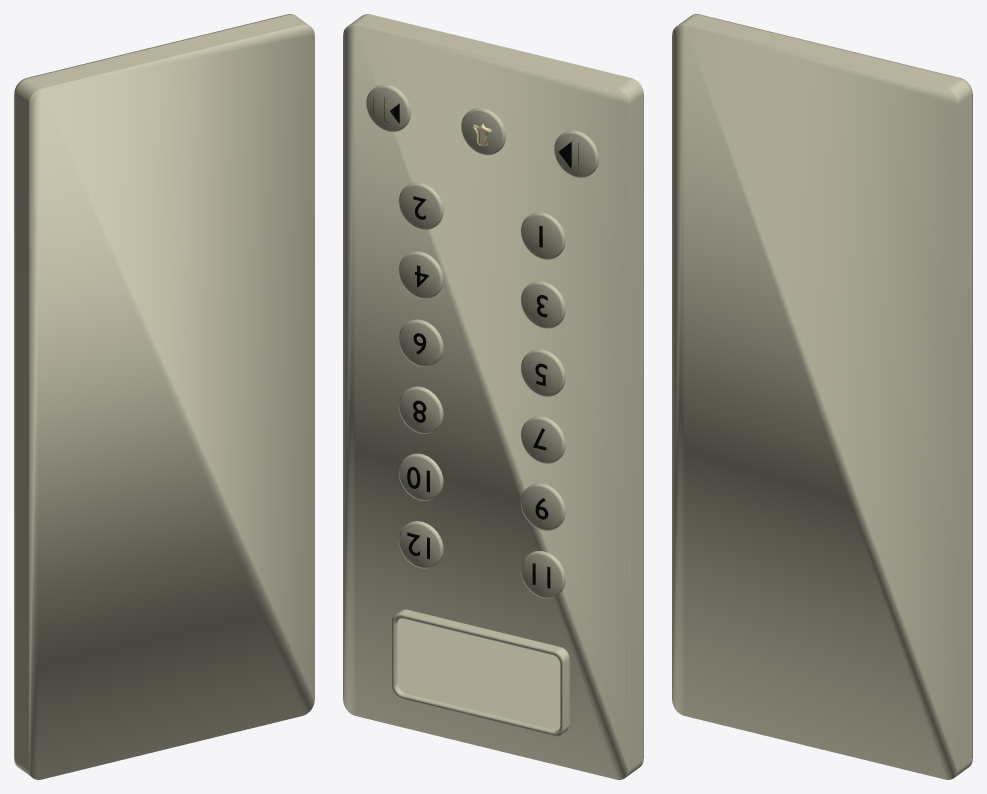
3 renders of one model, left to right at view 1: azimuth 30°, elevation 25°; view 2: azimuth 150°, elevation 25°; view 3: azimuth 330°, elevation 25°, orthographic.
Visible parts, largest first — view 1: imagetostl_mesh0; view 2: imagetostl_mesh0; view 3: imagetostl_mesh0.
Boxes of the visible parts, x1,y1,x2,y2 form: imagetostl_mesh0: (14,14,314,779); imagetostl_mesh0: (343,14,643,779); imagetostl_mesh0: (672,14,972,779).
Bounding box in the file's own units: 2.32 × 5.35 × 0.2938.
